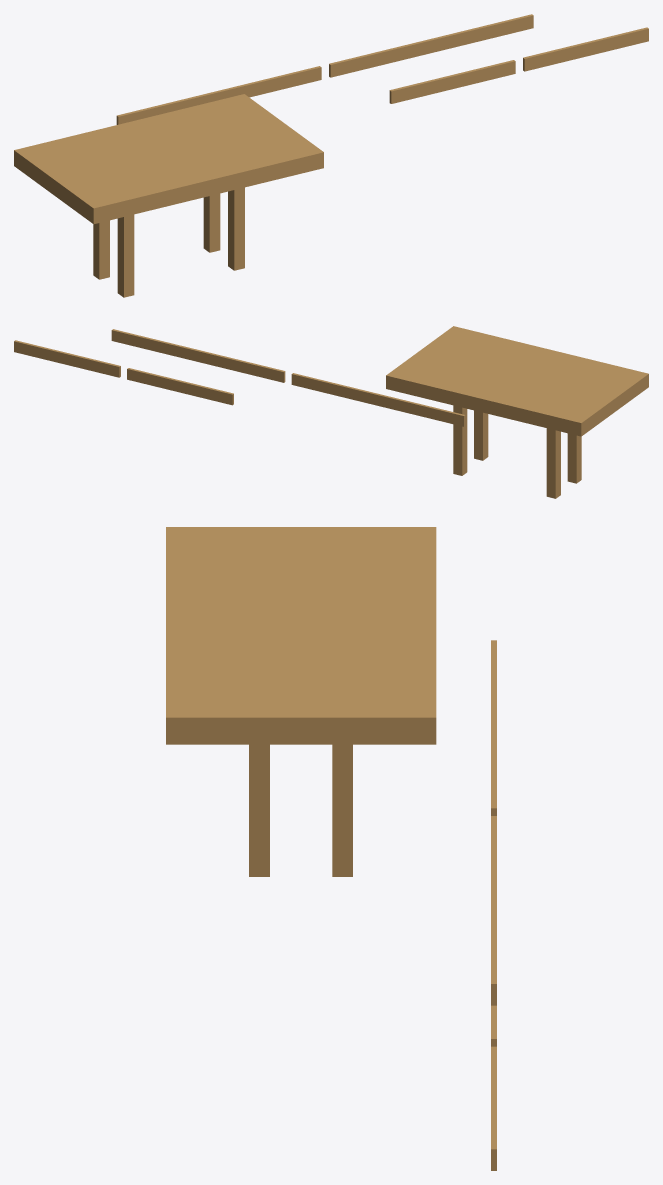
File: Demo.obj
3 renders of one model, top to bottom at view 1: azimuth 30°, elevation 25°; view 2: azimuth 150°, elevation 25°; view 3: azimuth 270°, elevation 25°, orthographic. The views are drawn at different scales.
Parts seen in each view (by area): view 1: top.panel, frame.apron.long_2, frame.apron.long_1, frame.apron.short_1, frame.apron.short_2, leg_1, leg_2, leg_4, leg_3; view 2: top.panel, frame.apron.long_1, frame.apron.long_2, frame.apron.short_1, frame.apron.short_2, leg_3, leg_4, leg_1, leg_2; view 3: top.panel, leg_2, leg_4, frame.apron.long_2, frame.apron.long_1.
Boxes of the visible parts, x1,y1,x2,y2 form: top.panel: [14, 94, 323, 224]; frame.apron.long_2: [329, 14, 533, 77]; frame.apron.long_1: [116, 66, 321, 124]; frame.apron.short_1: [389, 60, 515, 103]; frame.apron.short_2: [523, 27, 648, 71]; leg_1: [117, 214, 134, 297]; leg_2: [228, 187, 244, 270]; leg_4: [203, 193, 220, 252]; leg_3: [93, 220, 109, 279]; top.panel: [386, 326, 648, 436]; frame.apron.long_1: [291, 373, 465, 426]; frame.apron.long_2: [111, 329, 285, 382]; frame.apron.short_1: [127, 368, 233, 405]; frame.apron.short_2: [14, 340, 120, 377]; leg_3: [546, 428, 560, 498]; leg_4: [453, 405, 467, 475]; leg_1: [567, 433, 581, 483]; leg_2: [474, 410, 488, 460]; top.panel: [166, 527, 436, 744]; leg_2: [249, 744, 269, 876]; leg_4: [332, 744, 352, 876]; frame.apron.long_2: [491, 816, 496, 1005]; frame.apron.long_1: [491, 640, 496, 815].
Size of the model in its own units: 4.3 by 0.76 by 1.12.
